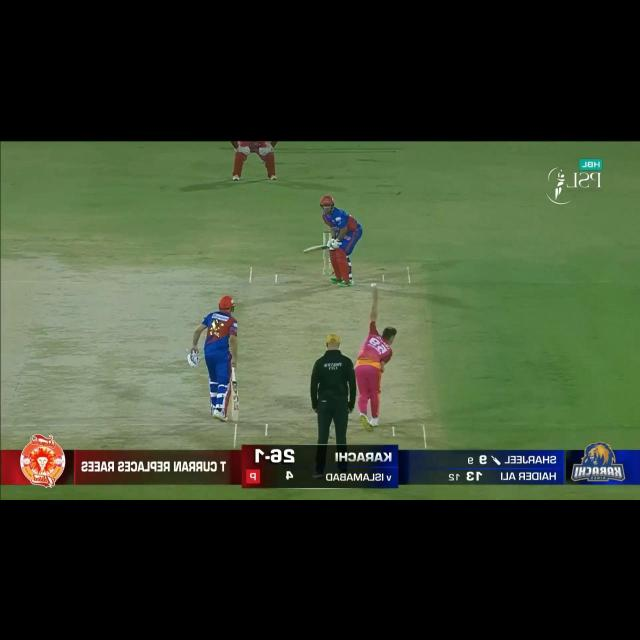bat: (231, 383, 241, 421), (302, 244, 331, 256)
toe: (302, 247, 310, 258), (231, 413, 240, 421)
